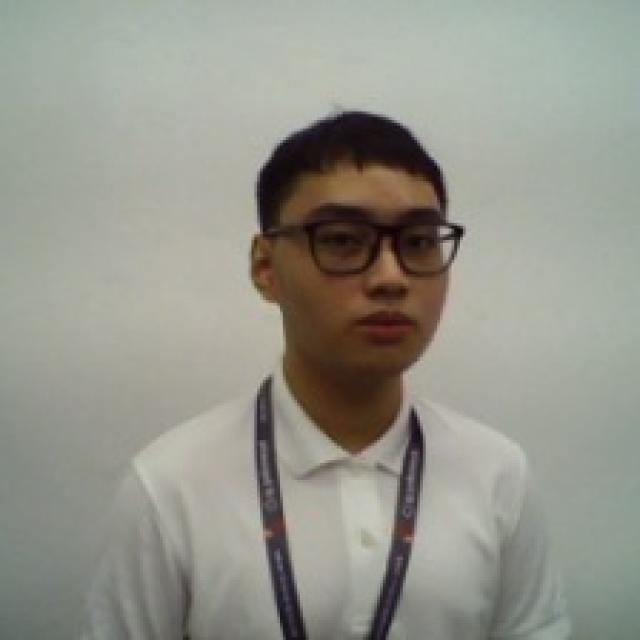no_gloves: (246, 104, 462, 243)
no_hairnet: (246, 253, 459, 382)
